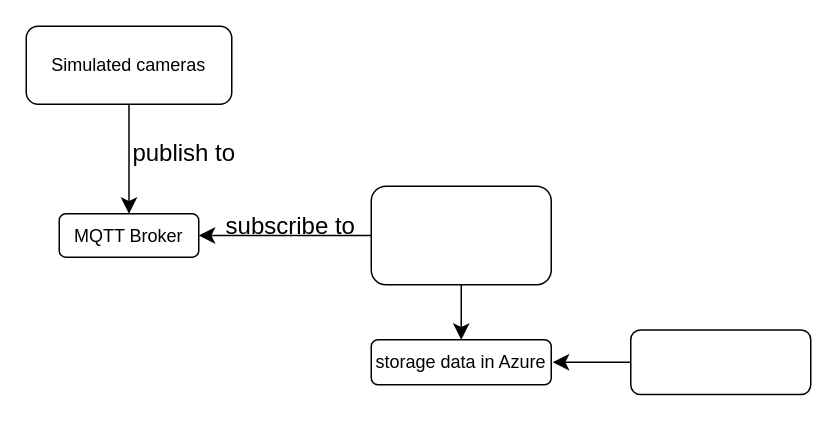
This 837x422 diagram has some shape labels left out. The centre of each missing label's shape, as x and y in pixels:
"Local visualizer (Open3d)" belongs at pixel 720 361.
"Server - mmsegmentation - icp - send result to azure" belongs at pixel 460 235.
